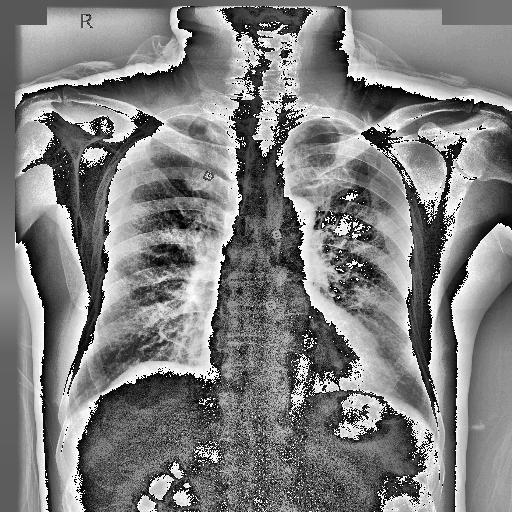0- Aortic enlargement: (262, 193, 318, 231)
11- Pleural thickening: (154, 112, 230, 143), (170, 112, 229, 144), (280, 118, 352, 133)
13- Pulmonary fibrosis: (153, 334, 190, 356)
3- Cardiomegaly: (201, 308, 396, 396), (195, 320, 389, 388), (198, 336, 400, 396)
5- ILD: (82, 178, 218, 376)
